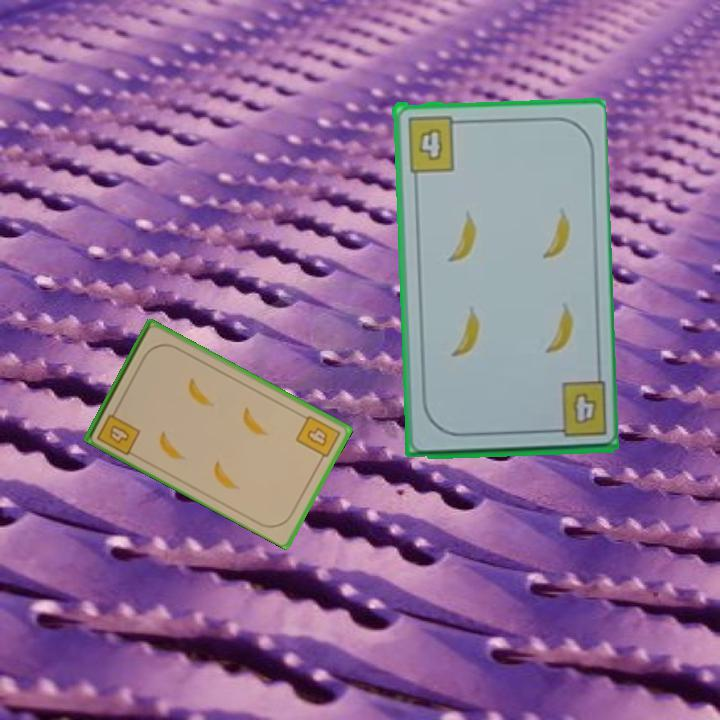4b: (544, 378, 609, 440), (403, 111, 466, 174), (292, 411, 343, 465), (93, 403, 143, 458)
